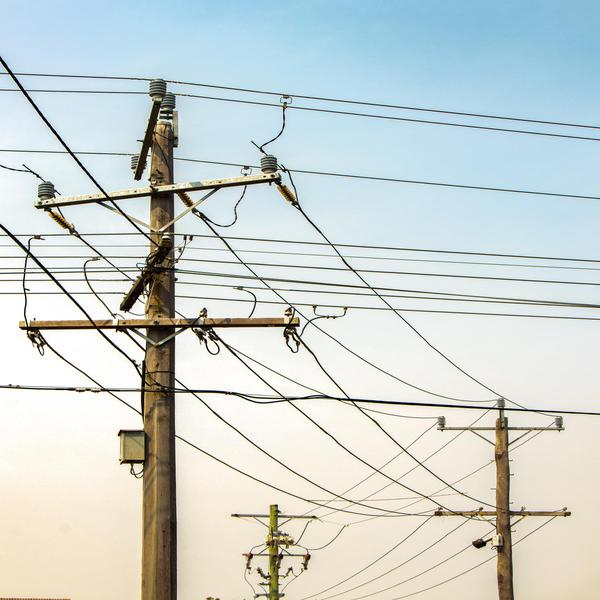utility_pole: (15, 71, 315, 420), (426, 389, 579, 558)
